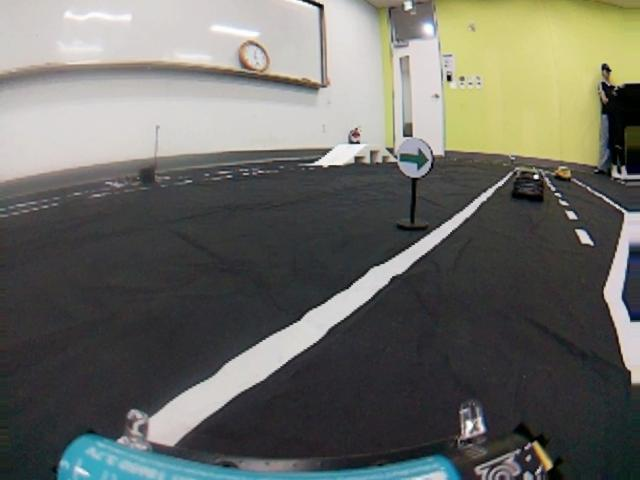car: (507, 167, 547, 204)
right: (5, 246, 640, 476)
sign_right: (395, 137, 433, 180)
